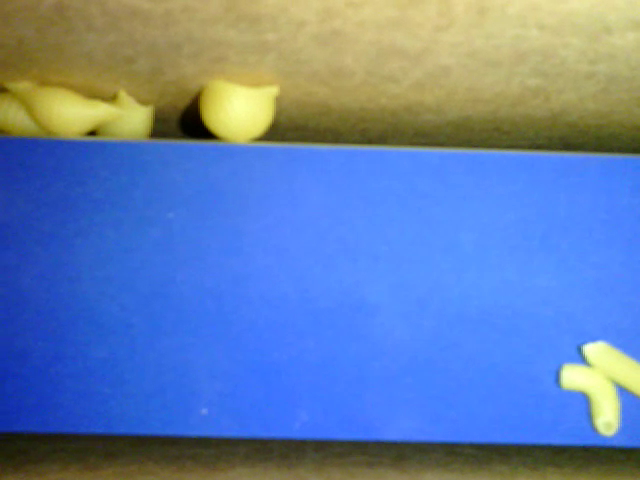elbow: (561, 363, 620, 437)
penne: (579, 342, 639, 399)
shell: (1, 75, 131, 139), (196, 80, 277, 143), (96, 92, 154, 138), (1, 93, 59, 134)
